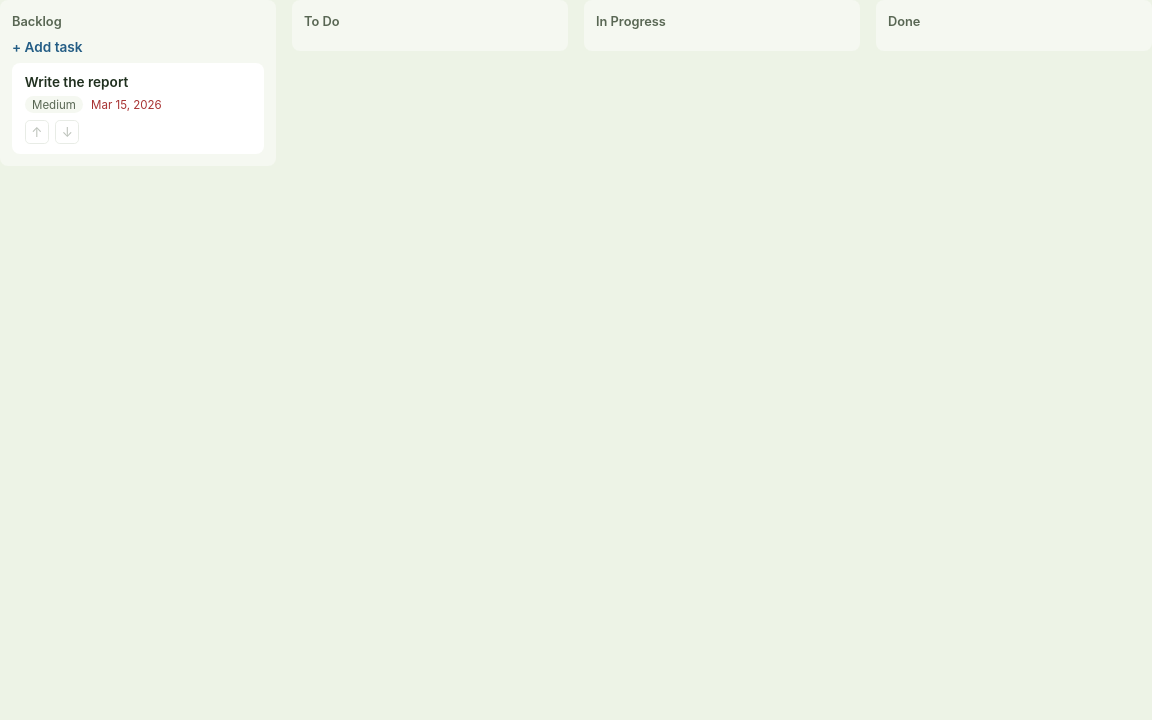
Test: TaskBoard › pre-fills the edit due date input using local time, not UTC (regression for the toISOString bug)
Click the text "Write the report". click: (77, 82)
box: [25,74,128,90]
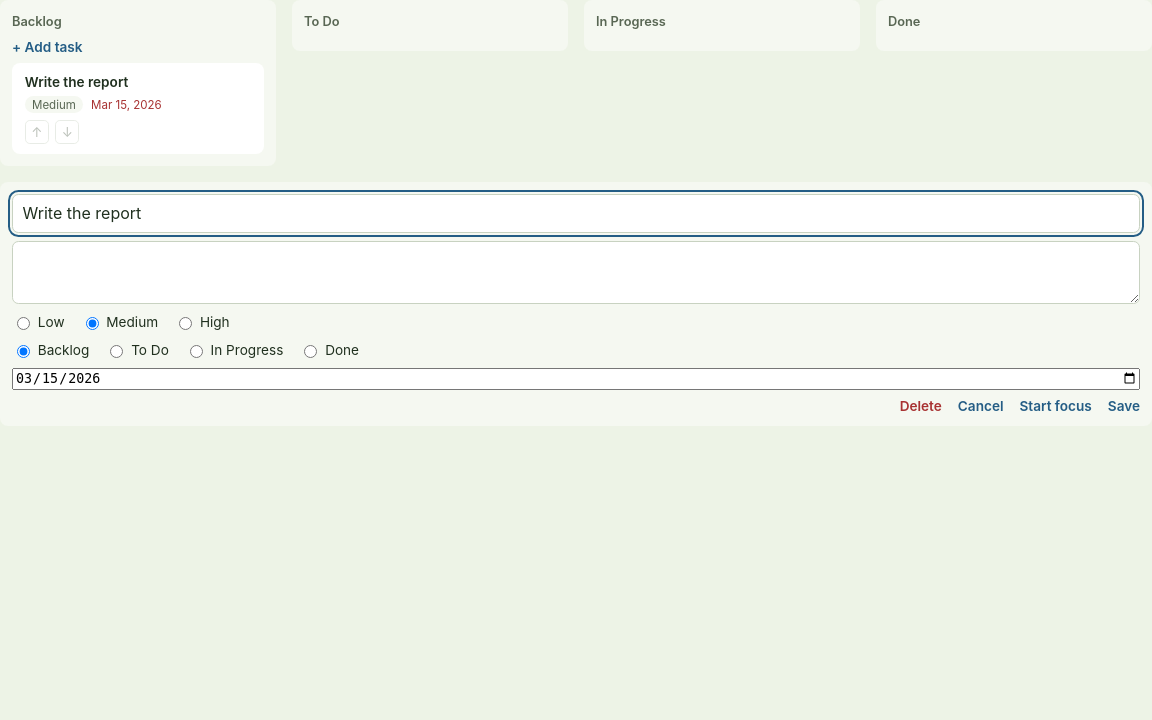
Now the date field named "Task due date" holds "2026-03-15", box [12,368,1140,390]
